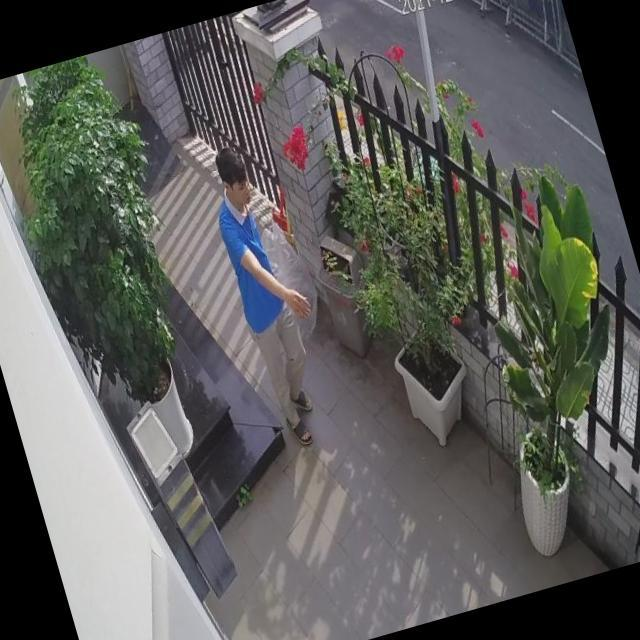person: (198, 138, 346, 448)
